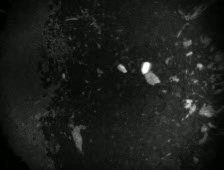corn: (139, 59, 153, 76), (115, 61, 129, 76), (60, 70, 67, 80)
